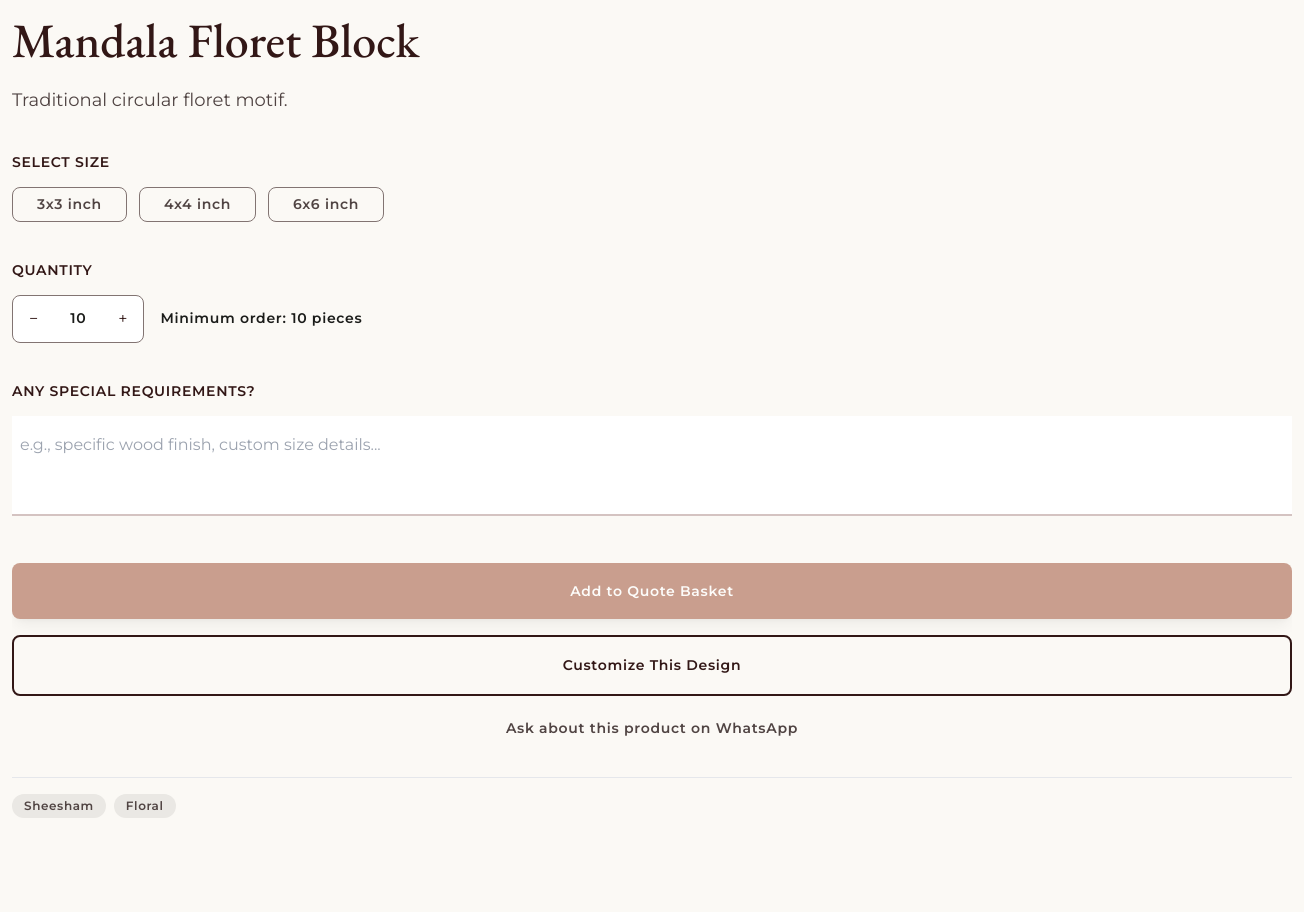
it: ProductInfoPanel › enables Add to Quote after size is selected
Click the button "4x4 inch" at coordinates (197, 205), box [139,187,256,222]
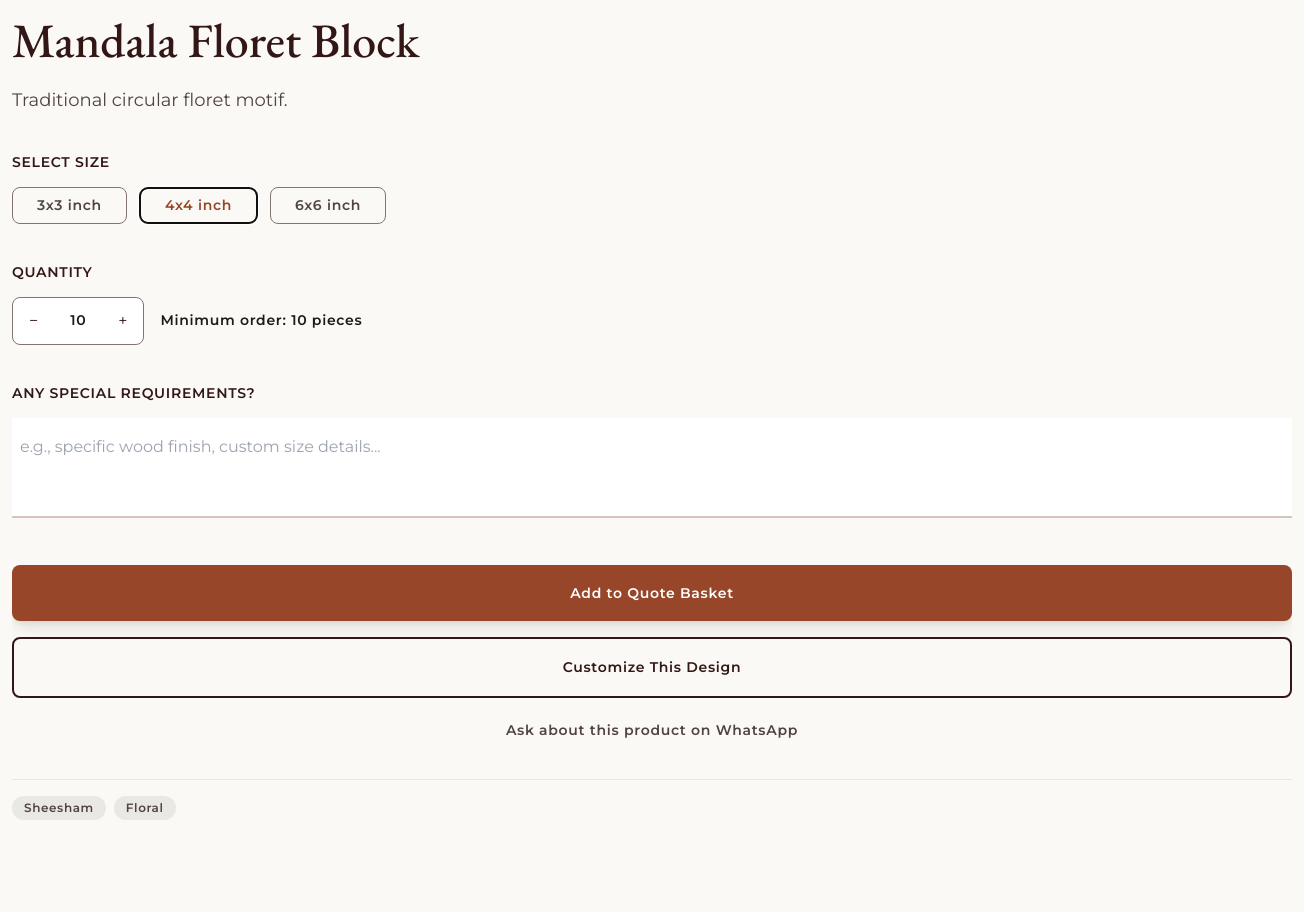
Expected: the button "Add to Quote Basket" is enabled, [12,565,1292,621]
